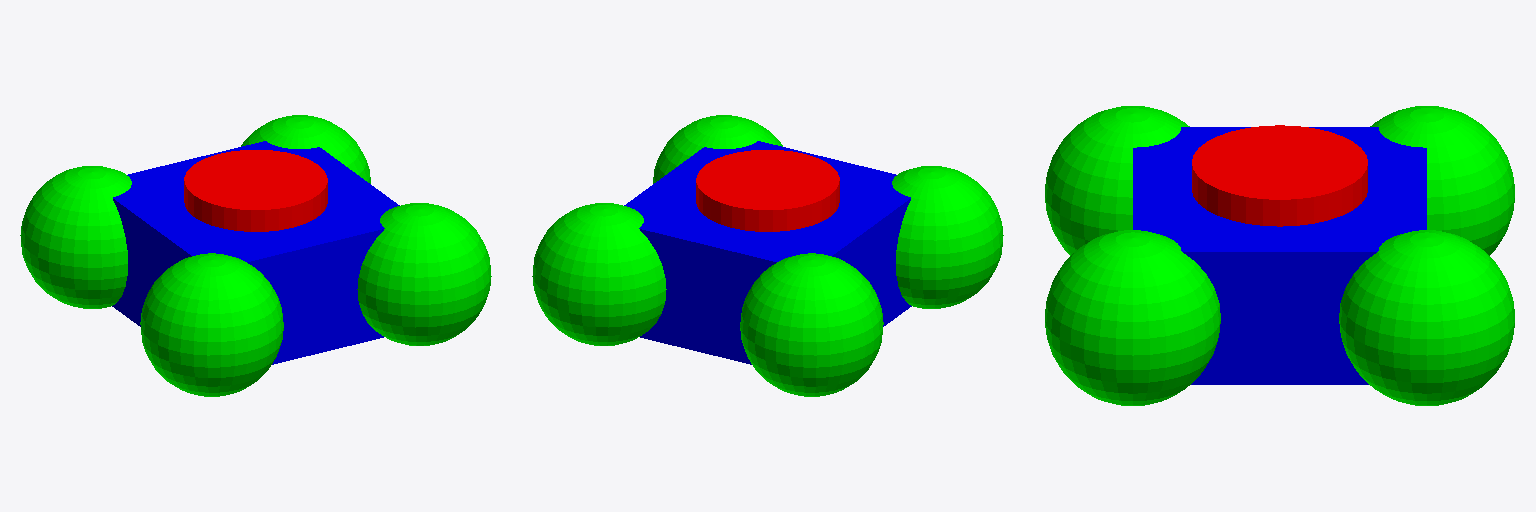
robot.urdf — HolonomicUrdf:

<robot name="HolonomicUrdf">

    <link name="base_footprint"/>

    <link name="base_link">
        <inertial>
            <mass value="1.0"/>
            <origin xyz="0 0 0" rpy="0 0 0"/>
            <inertia ixx="0.1" ixy="0.0" ixz="0.0" iyy="0.1" iyz="0.0" izz="0.1"/>
        </inertial>
        <visual>
            <geometry>
                <box size="1 1 0.5"/>
            </geometry>
            <origin xyz="0 0 0" rpy="0 0 0"/>
            <material name="blue">
            <color rgba="0.0 0.0 1.0 1.0"/>
            </material>
        </visual>
        <collision>
            <geometry>
                <box size="1 1 0.5"/>
            </geometry>
            <origin xyz="0 0 0" rpy="0 0 0"/>
        </collision>
    </link>

    <joint name="base_joint" type="fixed">
        <parent link="base_footprint"/>
        <child  link="base_link"/>
    </joint>

    <link name="wheel_base">
        <inertial>
            <mass value="1.0"/>
            <origin xyz="0 0 0" rpy="0 0 0"/>
            <inertia ixx="0.1" ixy="0.0" ixz="0.0" iyy="0.1" iyz="0.0" izz="0.1"/>
        </inertial>
        <visual>
            <geometry>
                <cylinder length="0.1" radius="0.3"/>
            </geometry>
            <origin xyz="0 0 0" rpy="0 0 0"/>
            <material name="red">
            <color rgba="1.0 0.0 0.0 1.0"/>
            </material>
        </visual>
    </link>

    <joint name="wheel_base_joint" type="continuous">
        <parent link="base_link"/>
        <child  link="wheel_base"/>

        <origin xyz="0 0 0.3" rpy="0 0 0"/>
        <axis xyz="0 0 1"/>
    </joint>

    <link name="wheel">
        <inertial>
            <mass value="1.0"/>
            <origin xyz="0 0 0" rpy="-1.57 0 0"/>
            <inertia ixx="0.1" ixy="0.0" ixz="0.0" iyy="0.1" iyz="0.0" izz="0.1"/>
        </inertial>
        <visual>
            <geometry>
                <cylinder length="0.1" radius="0.3"/>
            </geometry>
            <origin xyz="0 0 0" rpy="-1.57 0 0"/>
            <material name="red">
            <color rgba="1.0 0.0 0.0 1.0"/>
            </material>
        </visual>
    </link>

    <joint name="wheel_joint" type="continuous">
        <parent link="wheel_base"/>
        <child  link="wheel"/>

        <origin xyz="0 0 -0.3" rpy="0 0 0"/>
        <axis xyz="0 0 1"/>
    </joint>

    <link name="caster_FR">
        <inertial>
            <mass value="1.0"/>
            <origin xyz="0 0 0" rpy="0 0 0"/>
            <inertia ixx="0.1" ixy="0.0" ixz="0.0" iyy="0.1" iyz="0.0" izz="0.1"/>
        </inertial>
        <visual>
            <geometry>
                <sphere radius="0.3"/>
            </geometry>
            <origin xyz="0 0 0" rpy="0 0 0"/>
            <material name="green">
            <color rgba="0.0 1.0 0.0 1.0"/>
            </material>
        </visual>
    </link>

    <joint name="caster_FR_joint" type="fixed">
        <parent link="base_link"/>
        <child  link="caster_FR"/>

        <origin xyz="0.5 0.5 0" rpy="0 0 0"/>
    </joint>

    <link name="caster_FL">
        <inertial>
            <mass value="1.0"/>
            <origin xyz="0 0 0" rpy="0 0 0"/>
            <inertia ixx="0.1" ixy="0.0" ixz="0.0" iyy="0.1" iyz="0.0" izz="0.1"/>
        </inertial>
        <visual>
            <geometry>
                <sphere radius="0.3"/>
            </geometry>
            <origin xyz="0 0 0" rpy="0 0 0"/>
            <material name="green">
            <color rgba="0.0 1.0 0.0 1.0"/>
            </material>
        </visual>
    </link>

    <joint name="caster_FL_joint" type="fixed">
        <parent link="base_link"/>
        <child  link="caster_FL"/>

        <origin xyz="0.5 -0.5 0" rpy="0 0 0"/>
    </joint>

    <link name="caster_BR">
        <inertial>
            <mass value="1.0"/>
            <origin xyz="0 0 0" rpy="0 0 0"/>
            <inertia ixx="0.1" ixy="0.0" ixz="0.0" iyy="0.1" iyz="0.0" izz="0.1"/>
        </inertial>
        <visual>
            <geometry>
                <sphere radius="0.3"/>
            </geometry>
            <origin xyz="0 0 0" rpy="0 0 0"/>
            <material name="green">
            <color rgba="0.0 1.0 0.0 1.0"/>
            </material>
        </visual>
    </link>

    <joint name="caster_BR_joint" type="fixed">
        <parent link="base_link"/>
        <child  link="caster_BR"/>

        <origin xyz="-0.5 0.5 0" rpy="0 0 0"/>
    </joint>

    <link name="caster_BL">
        <inertial>
            <mass value="1.0"/>
            <origin xyz="0 0 0" rpy="0 0 0"/>
            <inertia ixx="0.1" ixy="0.0" ixz="0.0" iyy="0.1" iyz="0.0" izz="0.1"/>
        </inertial>
        <visual>
            <geometry>
                <sphere radius="0.3"/>
            </geometry>
            <origin xyz="0 0 0" rpy="0 0 0"/>
            <material name="green">
            <color rgba="0.0 1.0 0.0 1.0"/>
            </material>
        </visual>
    </link>

    <joint name="caster_BL_joint" type="fixed">
        <parent link="base_link"/>
        <child  link="caster_BL"/>

        <origin xyz="-0.5 -0.5 0" rpy="0 0 0"/>
    </joint>
    
</robot>

--- What the picture shows (computed from the rendered views, not written in the file) ---
The picture shows the robot from 3 angles, left to right: view 1: azimuth 30°, elevation 25°; view 2: azimuth 150°, elevation 25°; view 3: azimuth 270°, elevation 25°; orthographic projection.
Model HolonomicUrdf with 8 links and 7 joints (2 continuous, 5 fixed), rooted at base_footprint, posed every joint at zero.
Links seen in each view (by area): view 1: base_link, caster_BL, caster_FL, caster_BR, wheel_base, caster_FR; view 2: base_link, caster_BR, caster_FR, caster_BL, wheel_base, caster_FL; view 3: base_link, caster_FR, caster_FL, wheel_base, caster_BR, caster_BL.
Boxes of the visible links, x1,y1,x2,y2 form: base_link: (112, 141, 399, 364); caster_BL: (140, 253, 283, 396); caster_FL: (357, 203, 491, 345); caster_BR: (20, 166, 131, 308); wheel_base: (184, 150, 327, 231); caster_FR: (241, 115, 370, 183); base_link: (624, 141, 911, 364); caster_BR: (740, 253, 883, 396); caster_FR: (532, 203, 666, 345); caster_BL: (892, 166, 1003, 308); wheel_base: (696, 150, 839, 231); caster_FL: (653, 115, 782, 183); base_link: (1133, 127, 1426, 384); caster_FR: (1339, 230, 1514, 405); caster_FL: (1045, 230, 1220, 405); wheel_base: (1192, 125, 1367, 226); caster_BR: (1370, 106, 1514, 255); caster_BL: (1045, 106, 1189, 255).
Size in the robot's own frame: 1.6 by 1.6 by 0.65 metres.
Geometry: primitives only (box / cylinder / sphere), no mesh files.